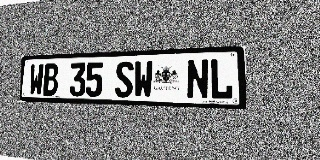3: (69, 62, 86, 96)
5: (86, 62, 103, 97)
B: (43, 63, 59, 96)
L: (210, 58, 233, 100)
N: (187, 59, 209, 99)
S: (115, 61, 133, 98)
W: (134, 60, 153, 98), (29, 64, 44, 96)
